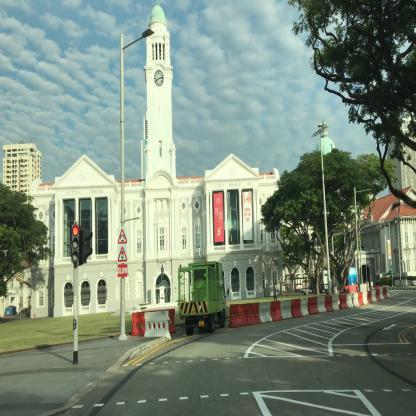red_traffic_light: (72, 224, 78, 261)
